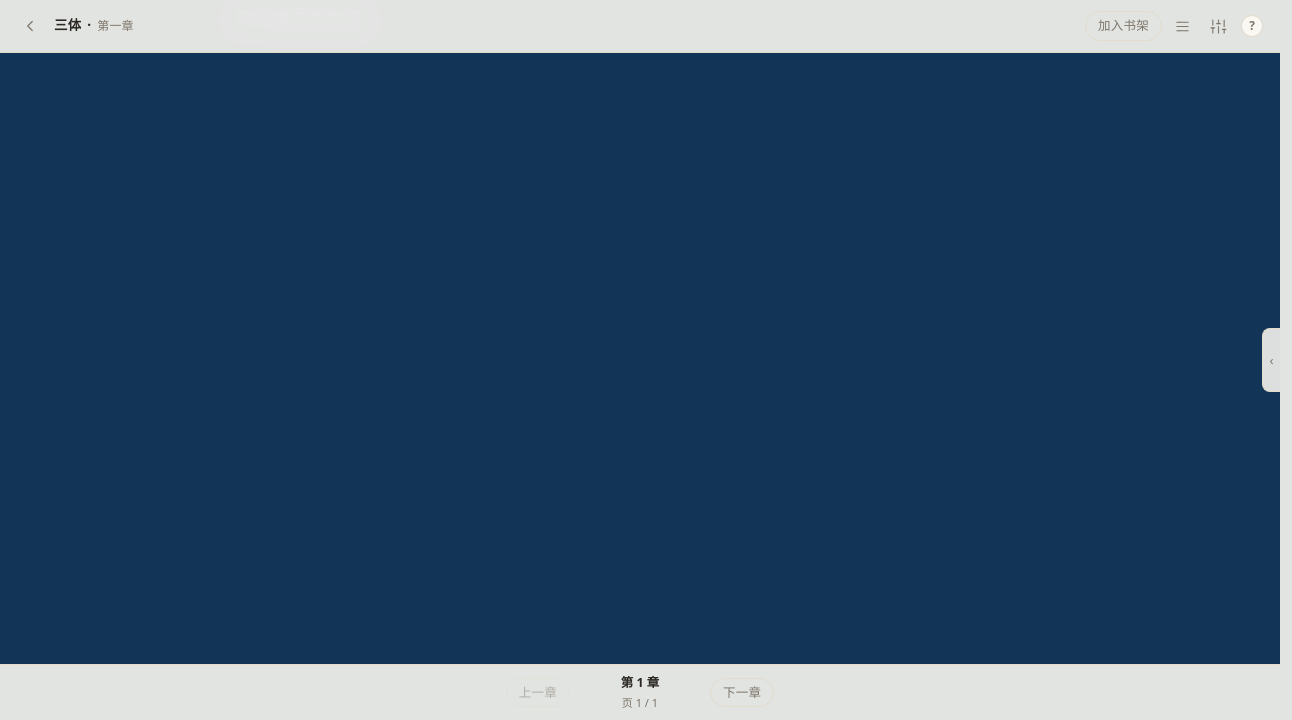
Scenario: ReaderPage (source) toc panel › jumps to a chapter from the toc
Click the button named "目录" at (1182, 26), box x1=1166 y1=10 x2=1198 y2=42
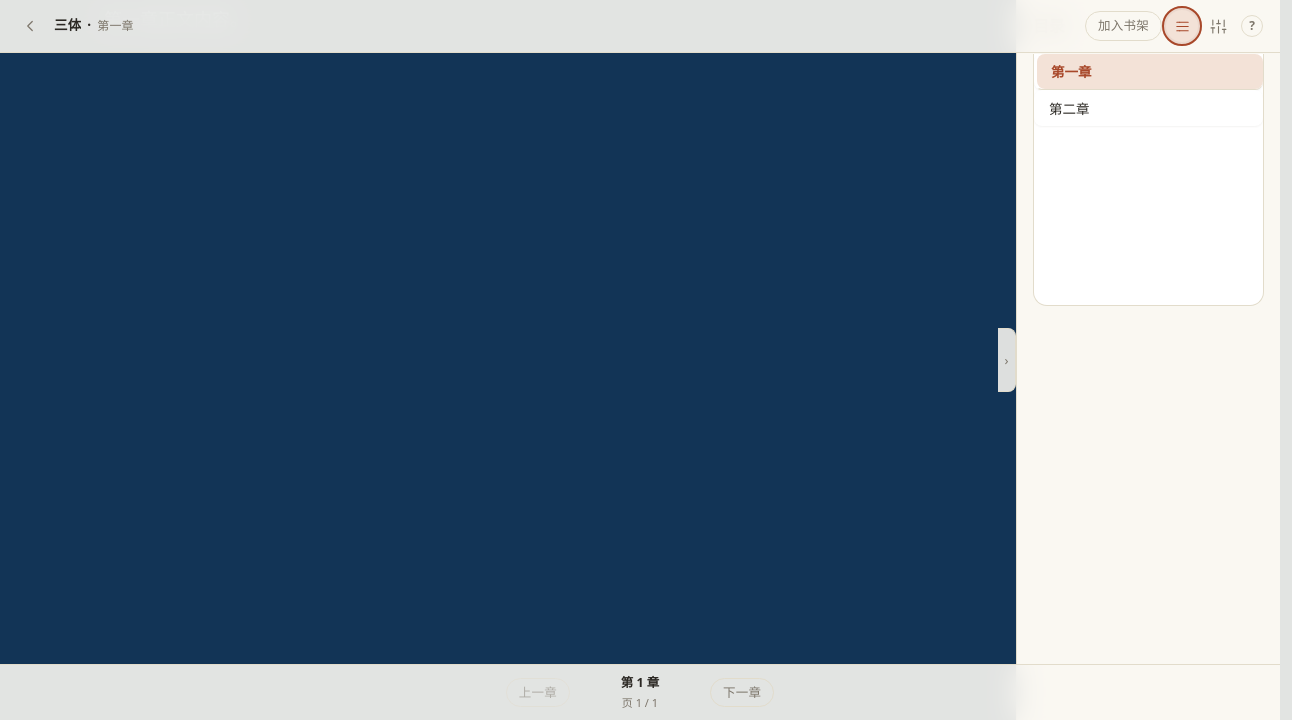
Click the button with class "toc-item" showing "第二章" at (1150, 108), box x1=1037 y1=90 x2=1263 y2=126
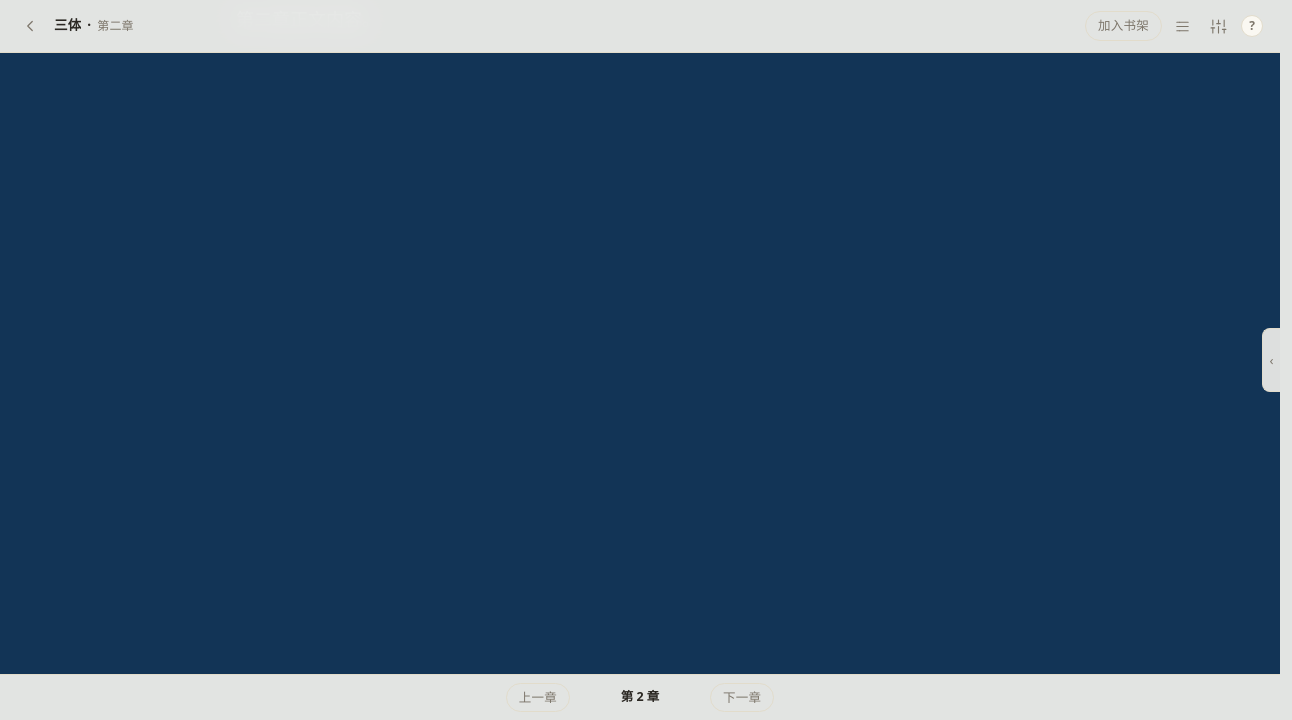
Result: the element with class "reader-toc-panel" is gone
Result: the text "第二章" is shown at x1=97 y1=16 x2=134 y2=36
